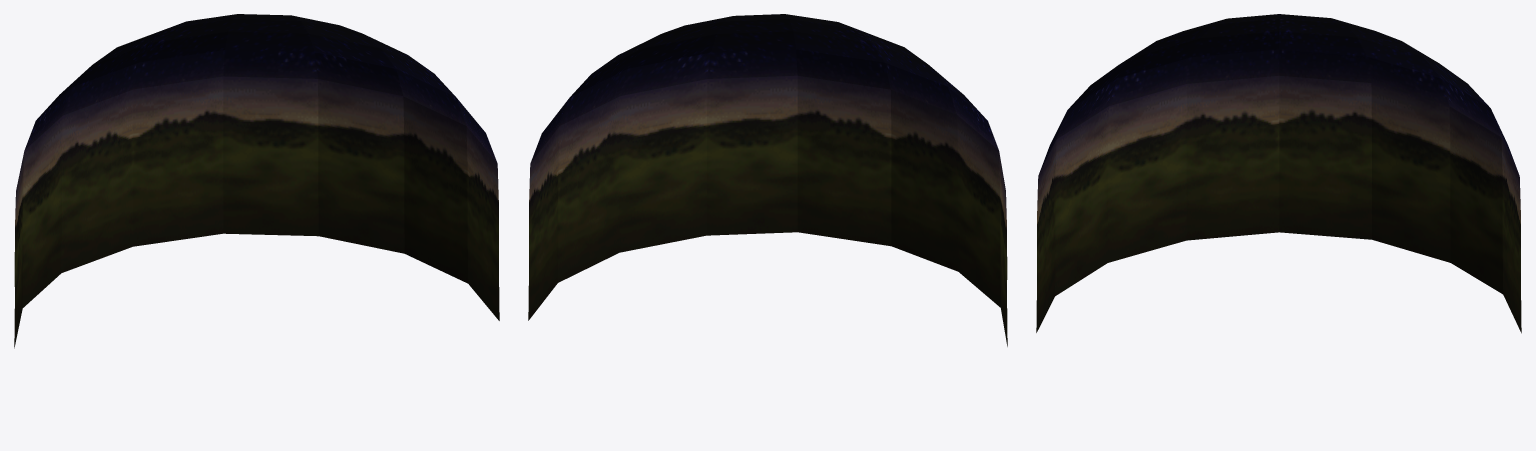
Rendered from Track_02_sky.glb.
3 views of the same model, side by side, from view 1: azimuth 30°, elevation 25°; view 2: azimuth 150°, elevation 25°; view 3: azimuth 270°, elevation 25° (orthographic).
Parts seen in each view (by area): view 1: Mesh_0; view 2: Mesh_0; view 3: Mesh_0.
Boxes of the visible parts, x1,y1,x2,y2 form: Mesh_0: (14,14,499,348); Mesh_0: (528,14,1007,346); Mesh_0: (1036,14,1521,333).
Bounding box in the file's own units: 366 × 243 × 366.
1 material, 1 textured.
